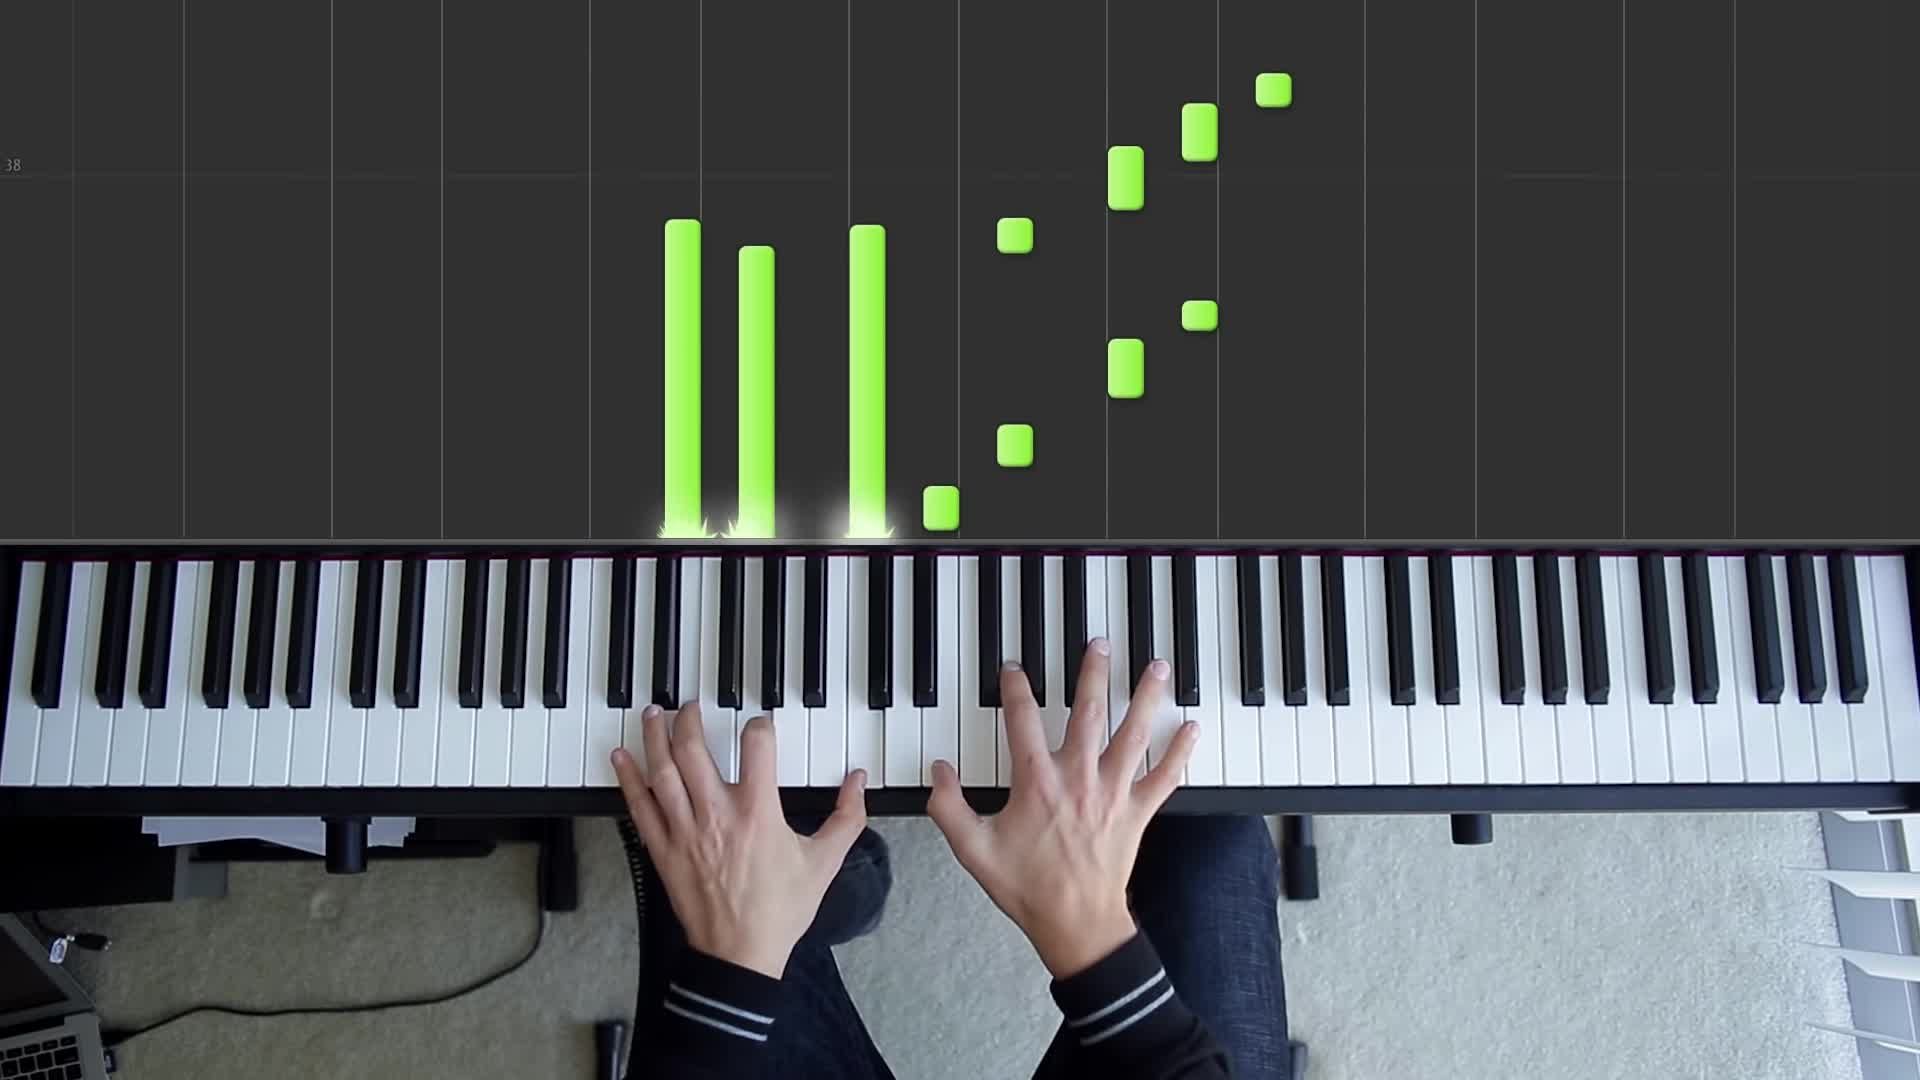left: (615, 699, 869, 957)
right: (924, 633, 1204, 938)
